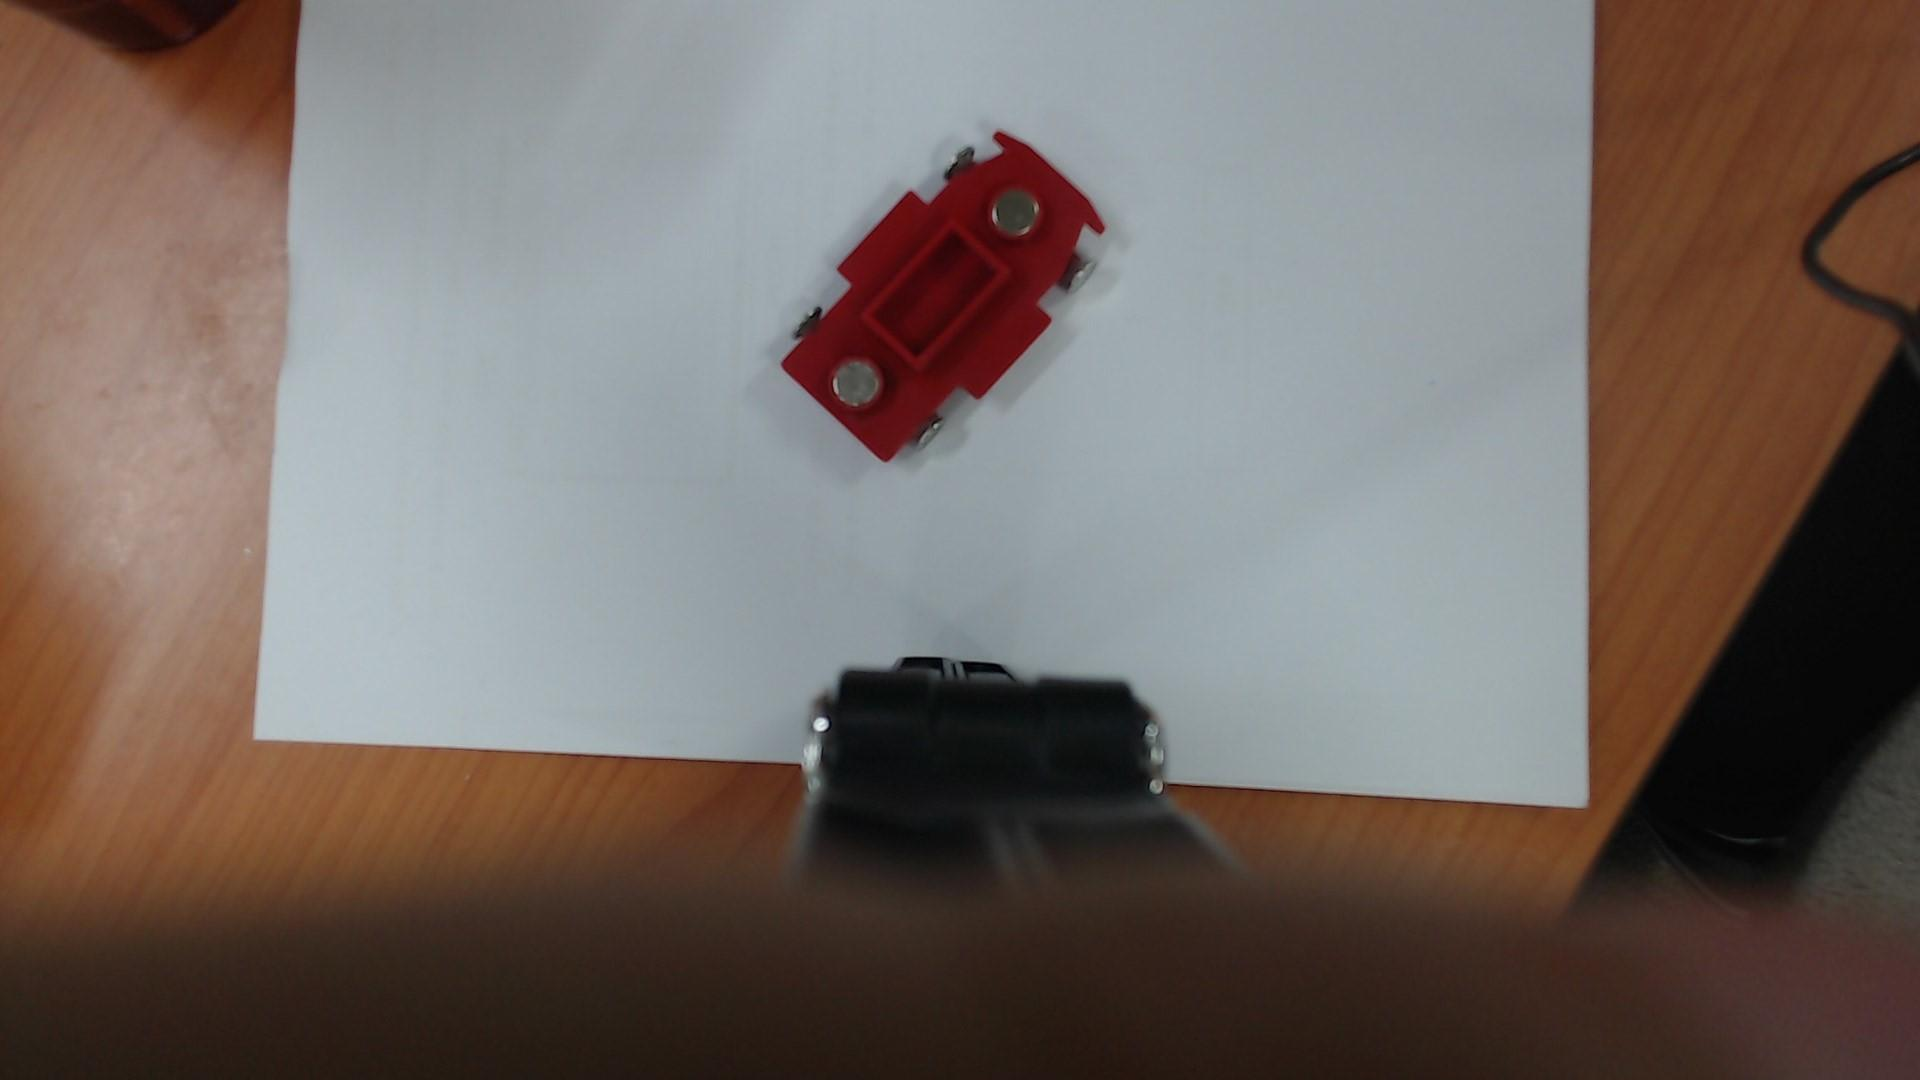lower_ok: (851, 210, 1023, 382)
